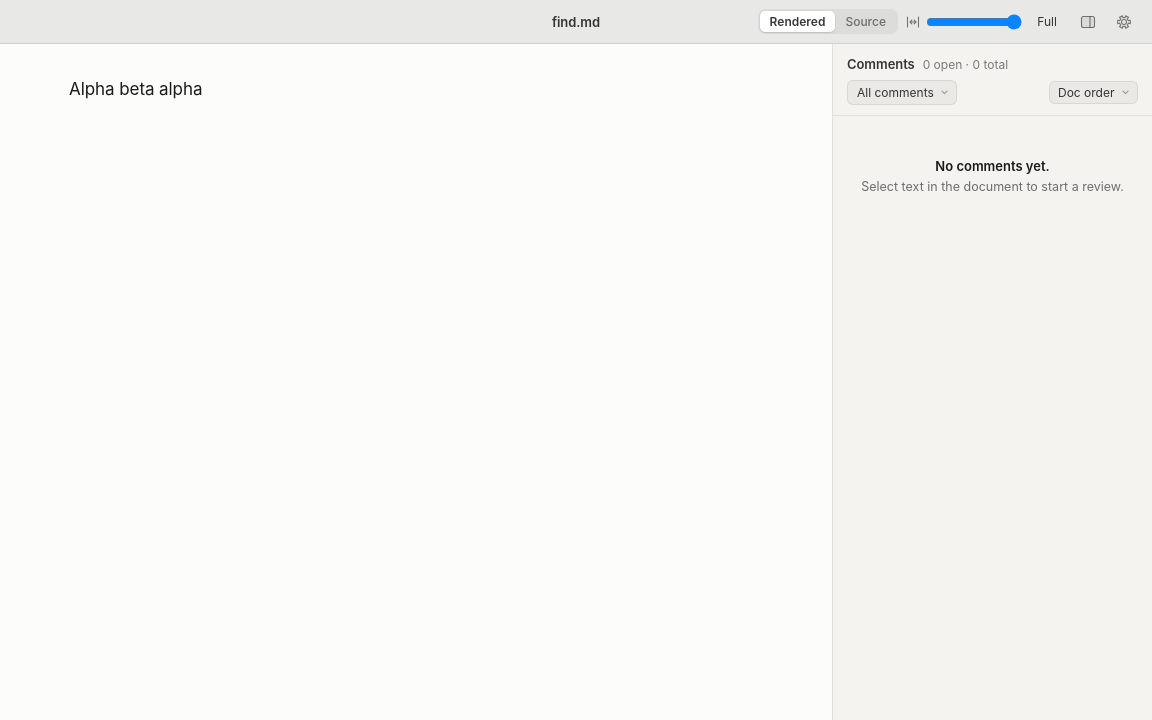
Test case: Find/Replace › disables replace controls for read-only documents
Press f
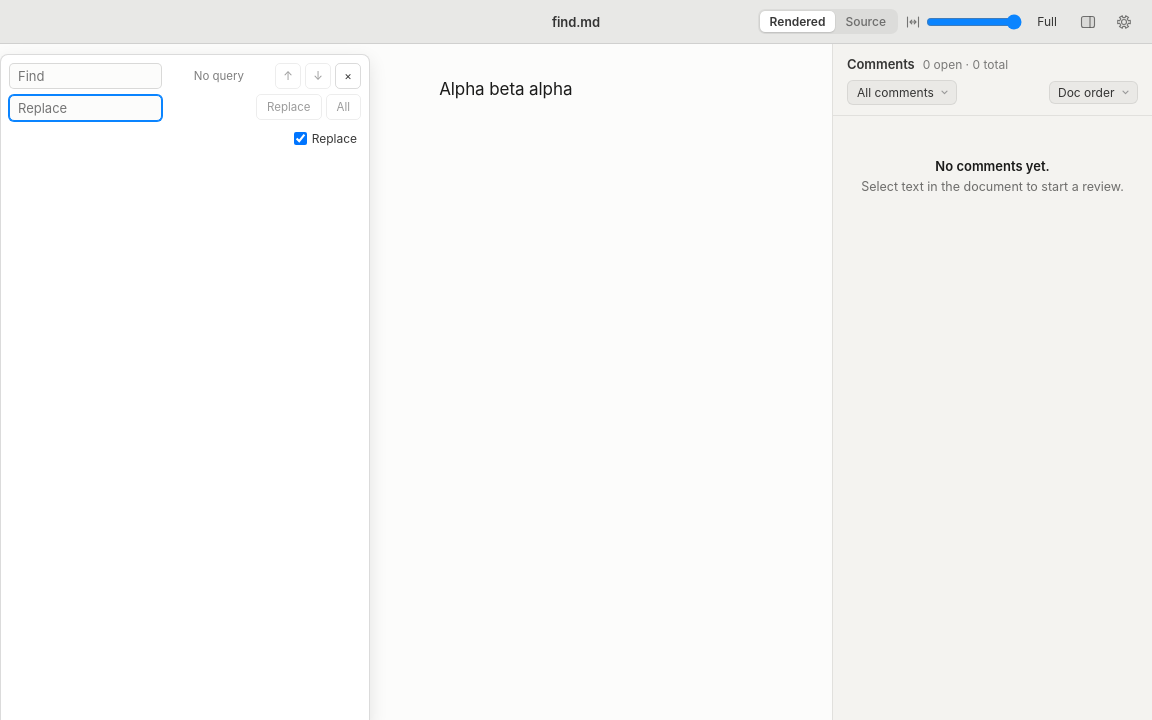
Type "alpha" into the field with test id "fm-findbar-query".
click(86, 76); type("alpha")  # box [9,63,162,89]
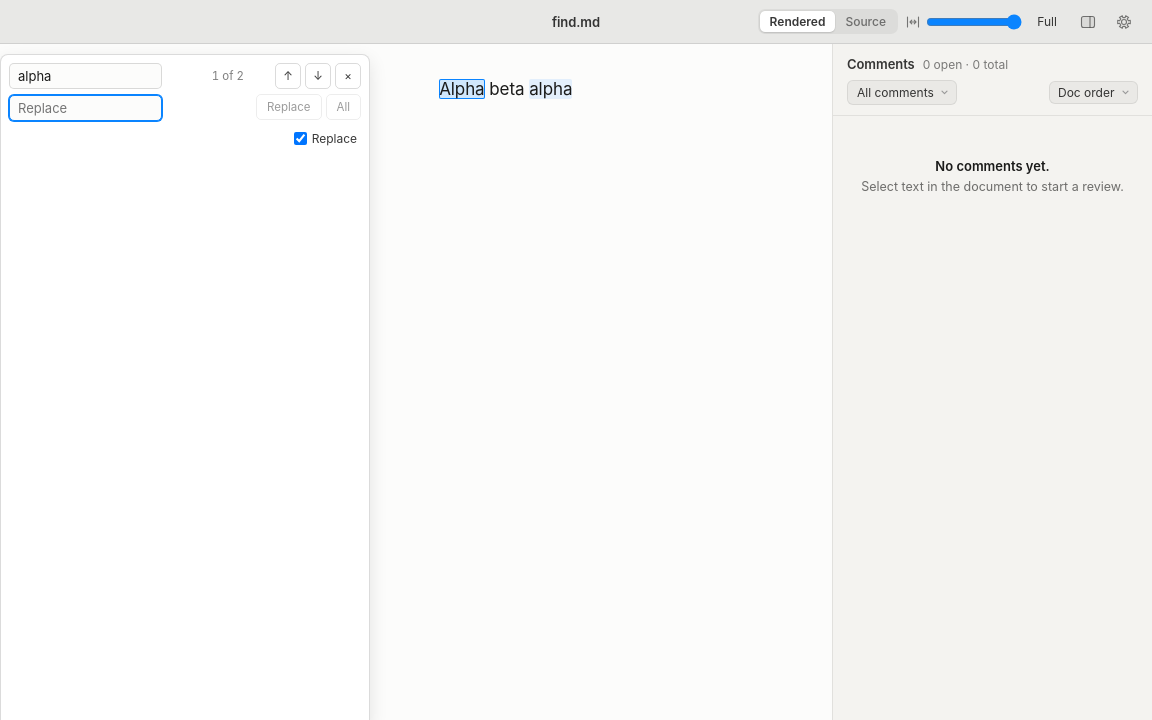
Now the button with test id "fm-findbar-replace" is disabled, box [256,94,322,120]
Now the button with test id "fm-findbar-replace-all" is disabled, box [326,94,361,120]
Now the text with test id "fm-findbar-count" reads "1 of 2", box [212,69,244,83]
